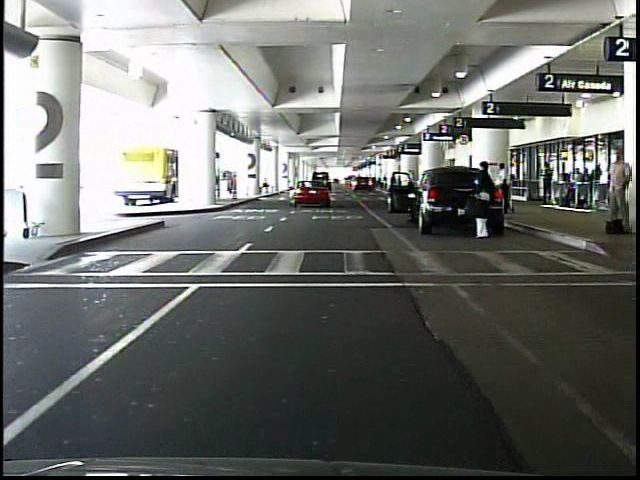person: (471, 163, 496, 243), (491, 162, 512, 217), (540, 162, 553, 205)
